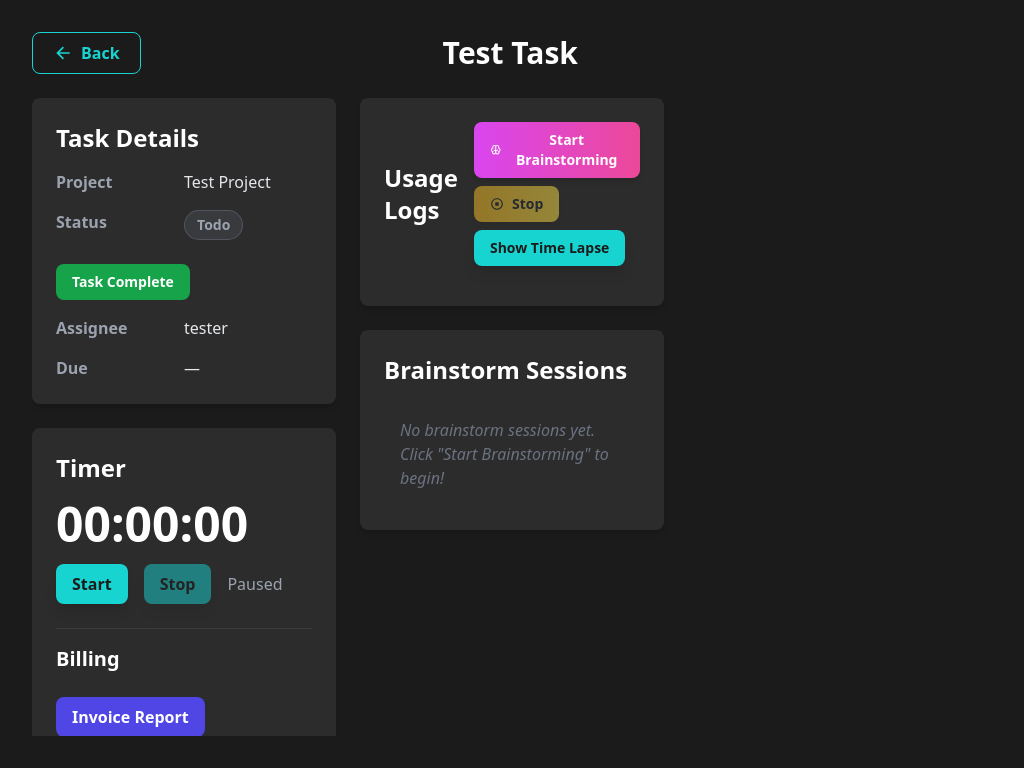
Test: TaskPage Component › handles brainstorming POST failure without crashing and keeps session running
expect the heading "Test Task" is shown: met, box [443,35,578,71]
// open brainstorm dialog
Click the button "Start Brainstorming" at coordinates (557, 150), box [474,122,640,178]
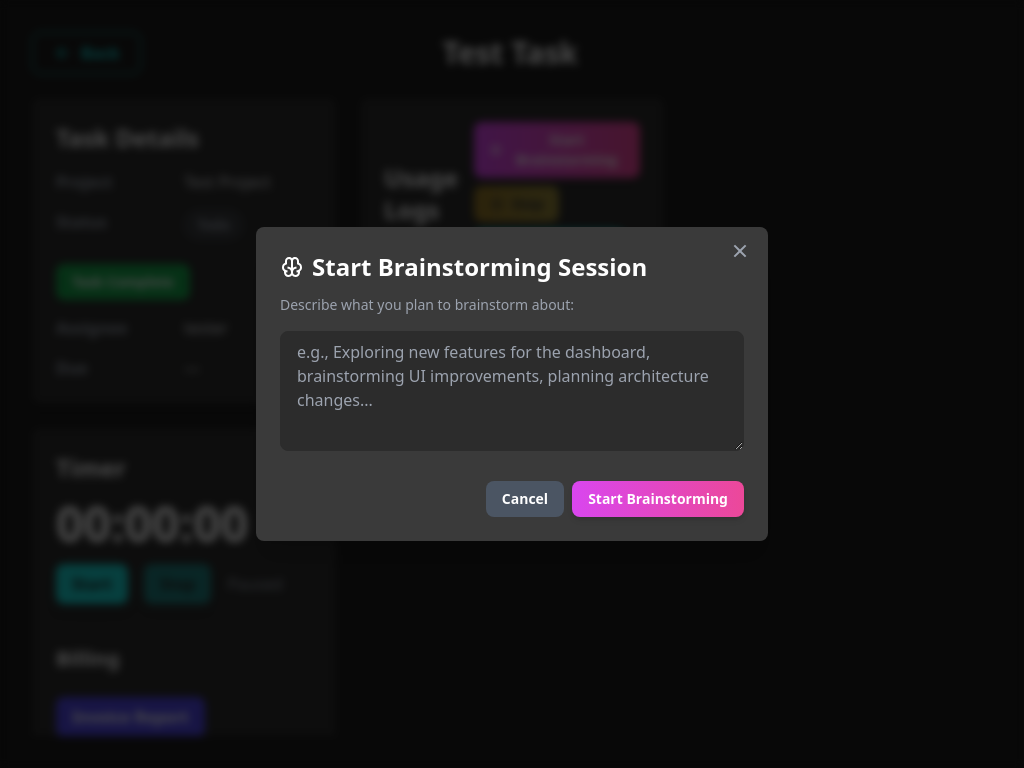
Replace the text in the text box with placeholder "Exploring new features" with "Should fail" at coordinates (512, 391), box [280,331,744,451]
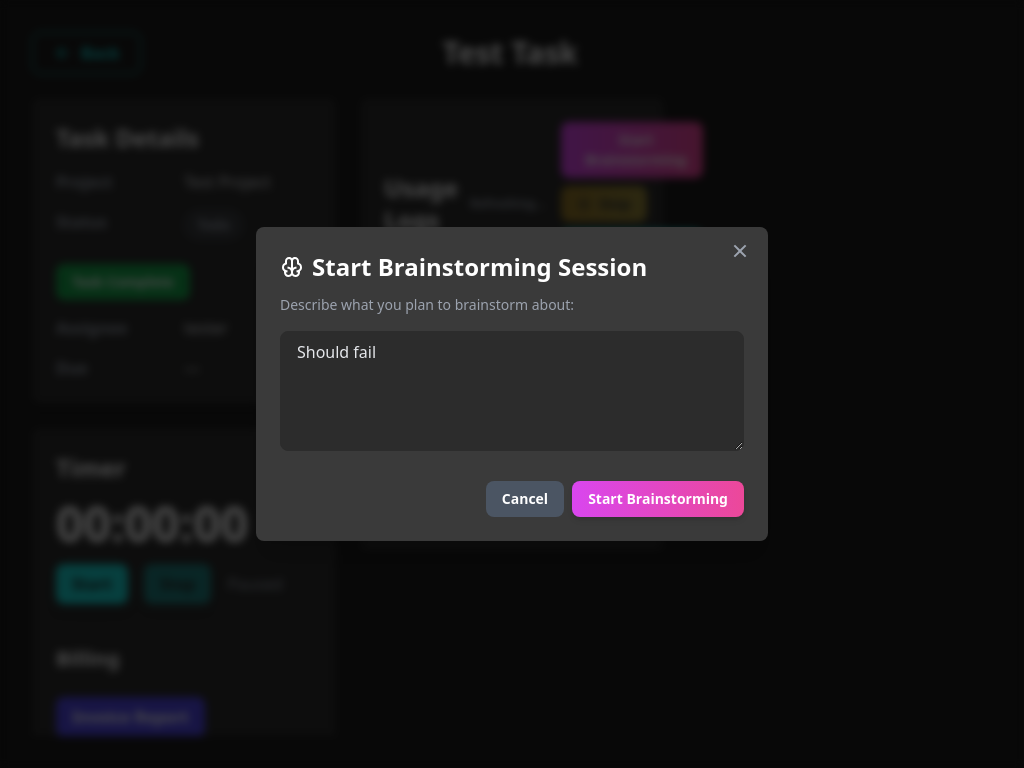
// click Start inside dialog (dialog's Start button is the last one)
Click the button "Start Brainstorming" at coordinates (658, 499), box [572,481,744,517]
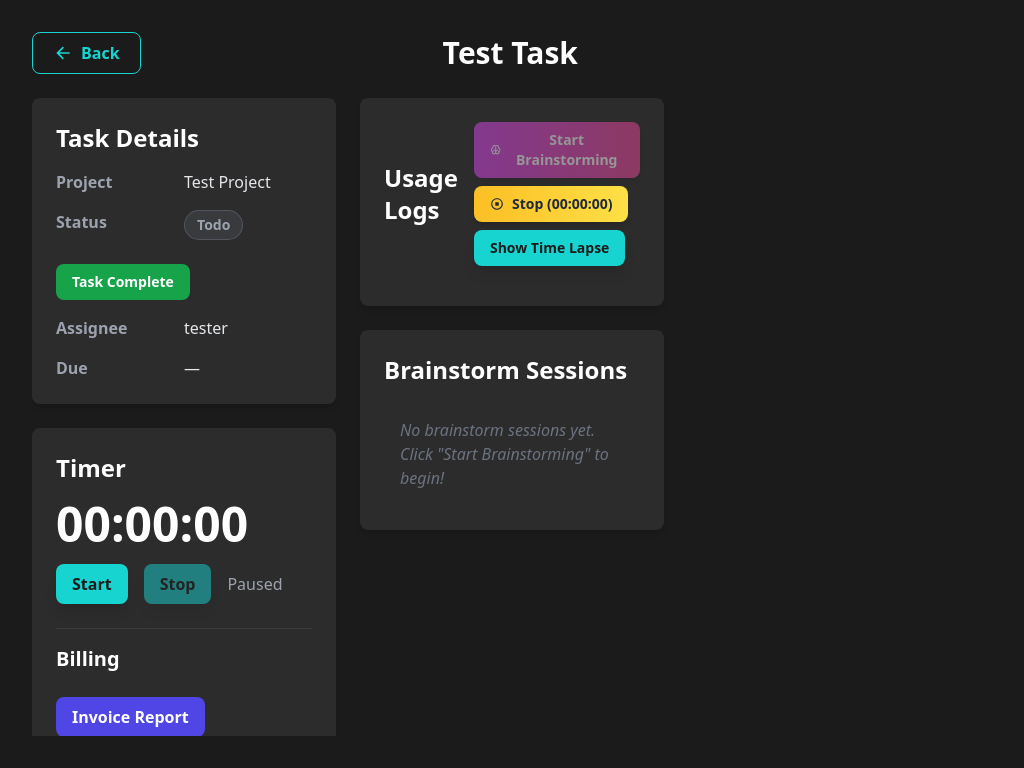
expect the button titled "Stop brainstorming session" is enabled: met, box [474,186,628,222]
